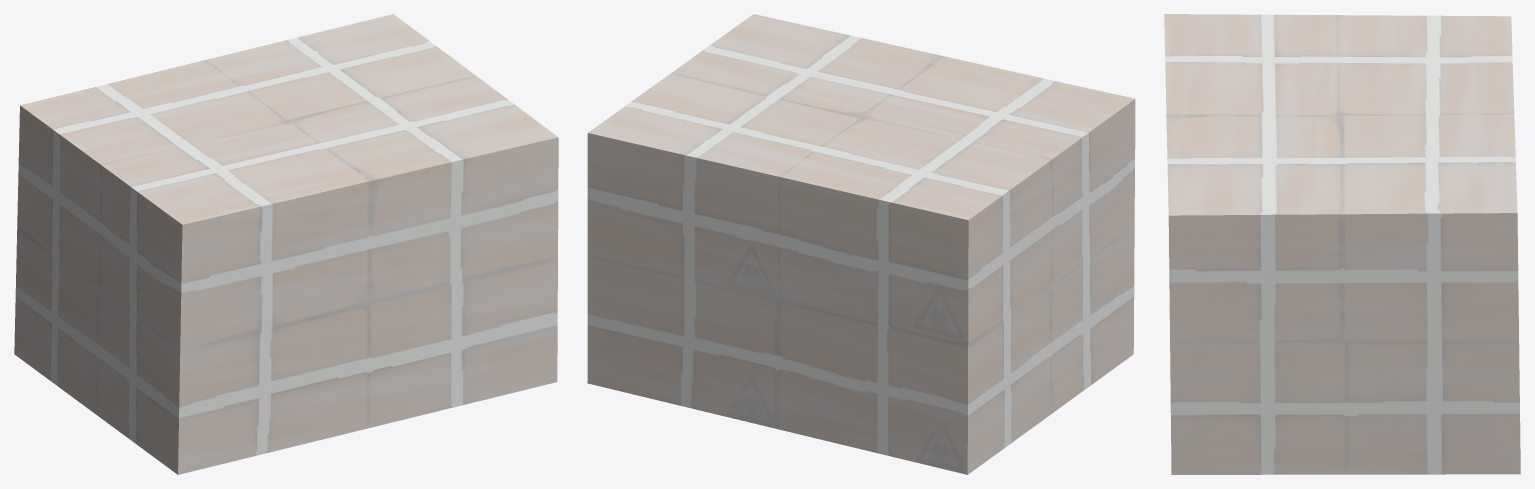
The model's file is Pfb_BoxGroup__2.fbx.
3 views of the same model, side by side, from view 1: azimuth 30°, elevation 25°; view 2: azimuth 150°, elevation 25°; view 3: azimuth 270°, elevation 25° (orthographic). The views are drawn at different scales.
Parts seen in each view (by area): view 1: Mat_BoxGroup_02_Blue; view 2: Mat_BoxGroup_02_Blue; view 3: Mat_BoxGroup_02_Blue.
Part boxes in pixels (box(x1,y1,x2,y2)): Mat_BoxGroup_02_Blue: box(14, 14, 558, 474); Mat_BoxGroup_02_Blue: box(587, 14, 1135, 474); Mat_BoxGroup_02_Blue: box(1164, 14, 1520, 474).
Bounding box in the file's own units: 1.85 × 1.17 × 1.43.
1 material, 1 textured.
